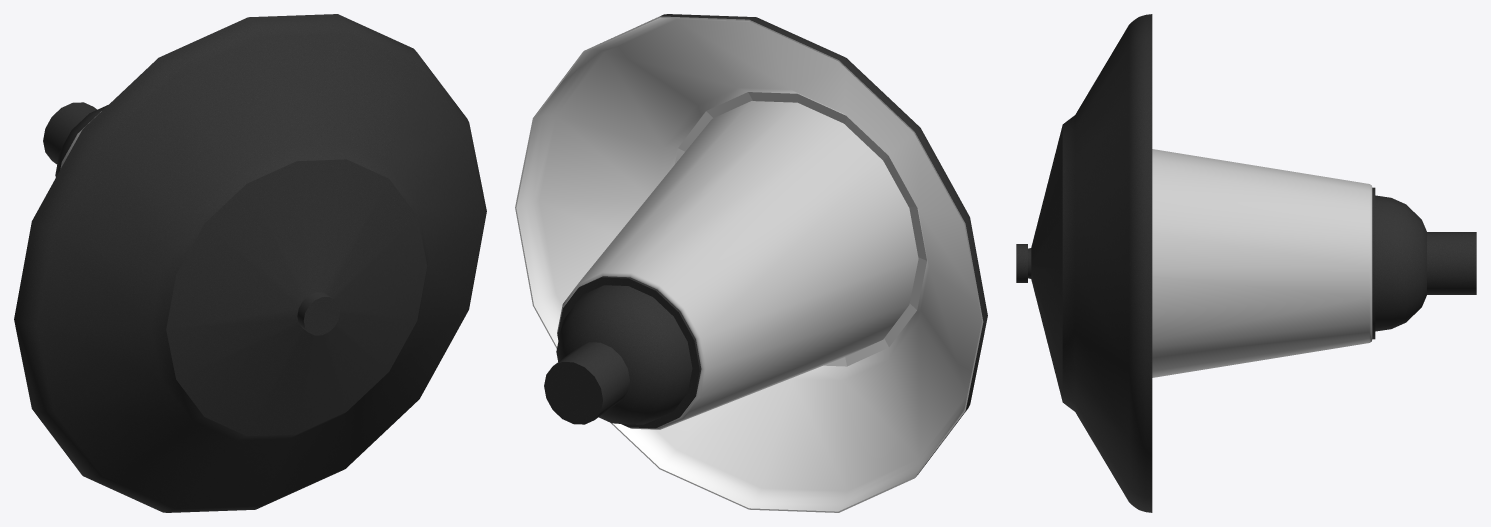
3 views of the same model, side by side, from view 1: azimuth 30°, elevation 25°; view 2: azimuth 150°, elevation 25°; view 3: azimuth 270°, elevation 25° (orthographic). The views are drawn at different scales.
Visible parts, largest first — view 1: Vulkan_5450_BezierCurve.004; view 2: Vulkan_5450_BezierCurve.004, Vulkan_5450_Glas_BezierCurve.005; view 3: Vulkan_5450_BezierCurve.004, Vulkan_5450_Glas_BezierCurve.005.
Part boxes in pixels (x1,y1,x2,y2): Vulkan_5450_BezierCurve.004: (14,14,486,512); Vulkan_5450_BezierCurve.004: (515,14,987,512); Vulkan_5450_Glas_BezierCurve.005: (557,101,918,429); Vulkan_5450_BezierCurve.004: (1016,14,1476,512); Vulkan_5450_Glas_BezierCurve.005: (1152,149,1372,377).
Size of the model in its own units: 0.7805 by 0.7805 by 0.7198.
Materials: 3 (2 with a texture image).
